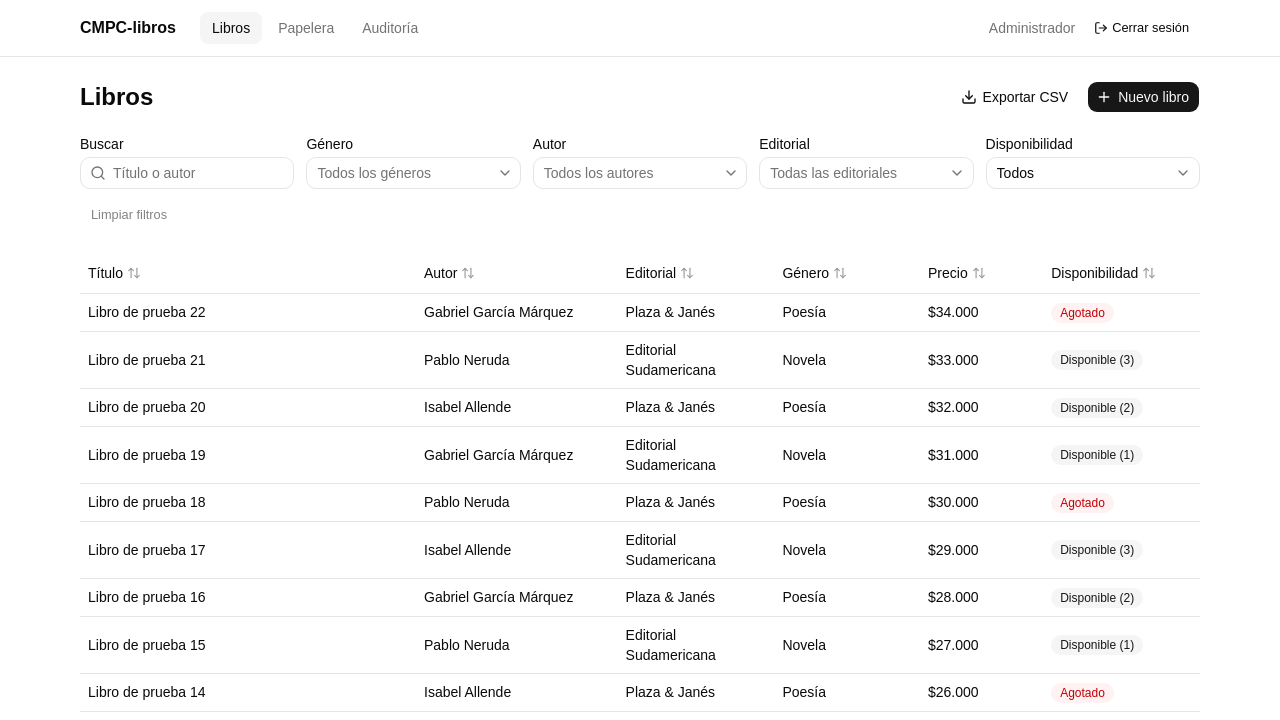
Scenario: rutas de la aplicación › muestra un toast si el cierre de sesión falla
Click the button "Cerrar sesión" at (1144,28), box [1087,14,1200,42]
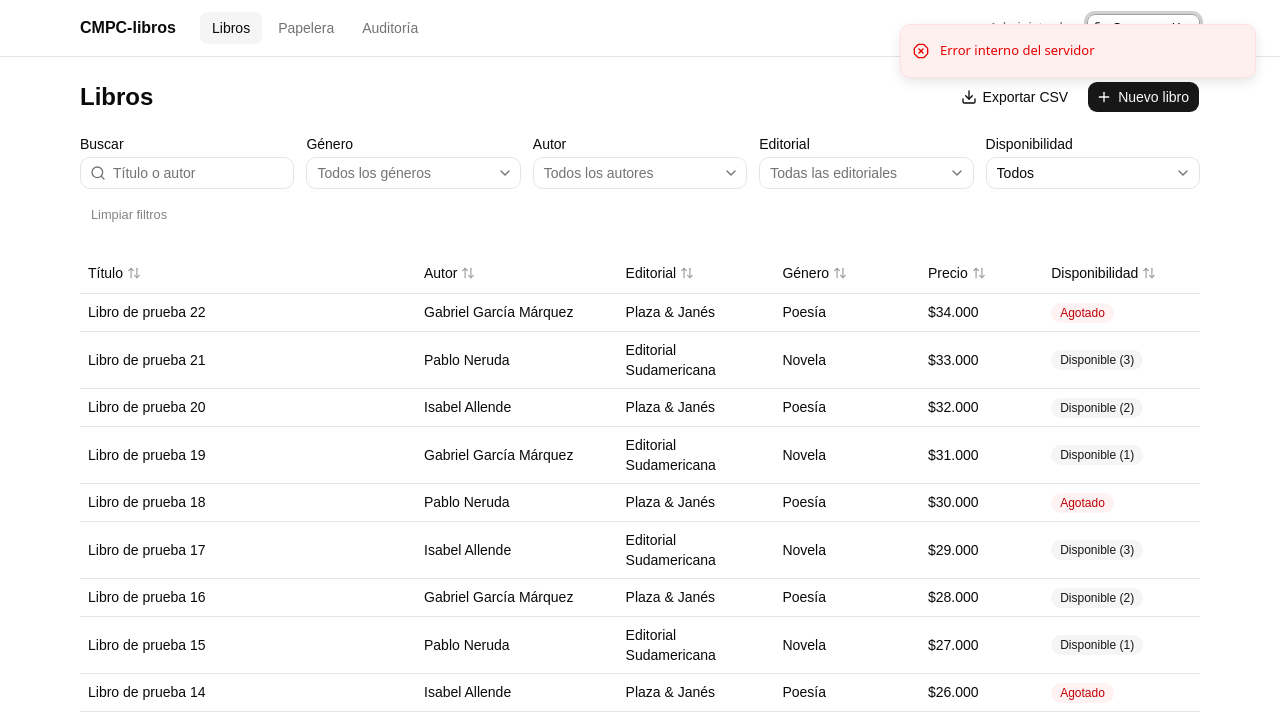
Check: the text "Error interno del servidor" is shown, box [940,41,1095,60]
